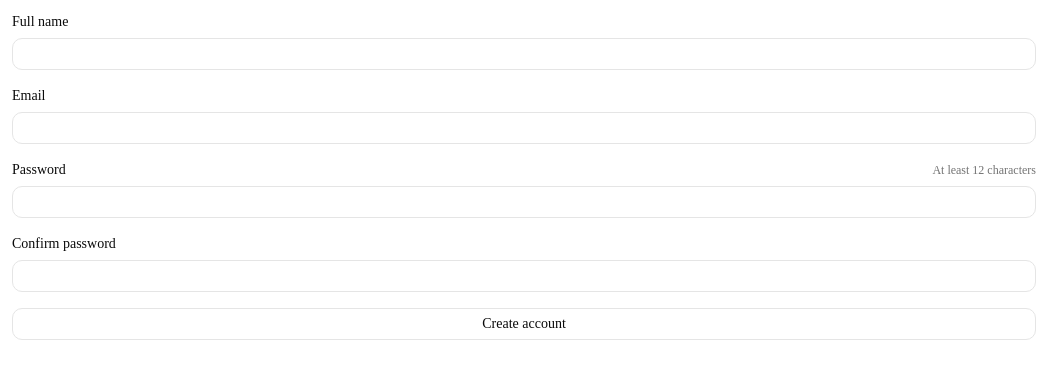
Test: SignupForm › shows a loading state on the submit button while pending
Type "Ada Lovelace" into the field labelled "Full name".
click(524, 54); type("Ada Lovelace")  # box [12, 38, 1036, 70]
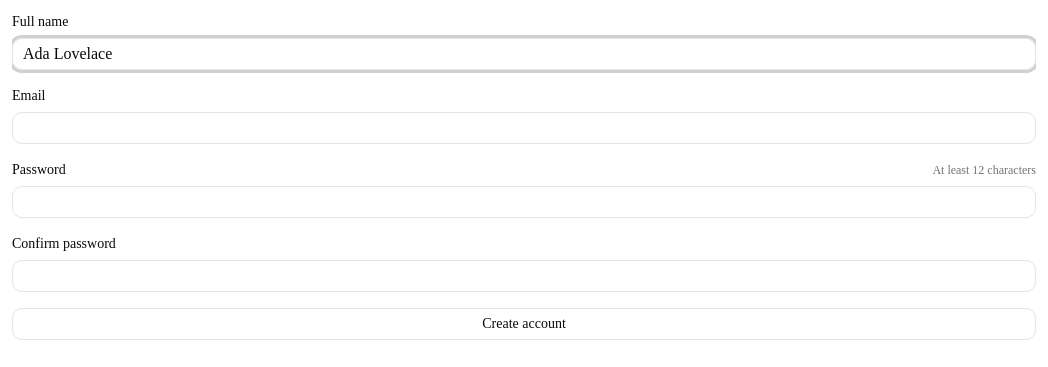
Type "ada@example.com" into the field labelled "Email".
click(524, 128); type("ada@example.com")  # box [12, 112, 1036, 144]
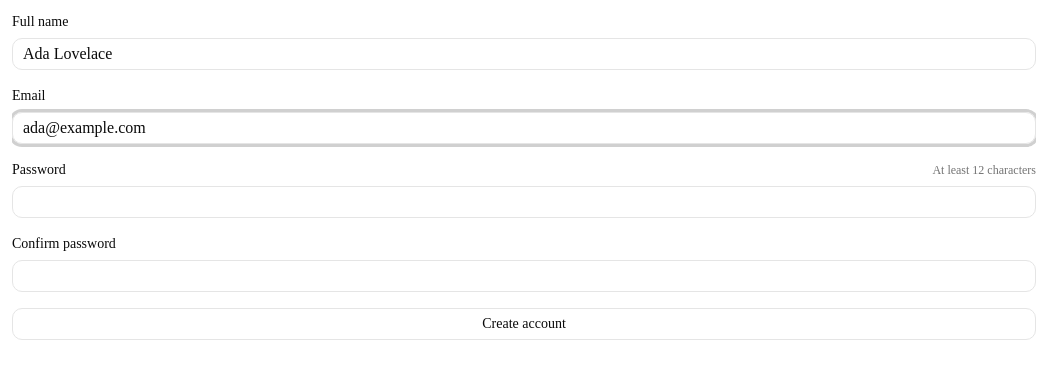
Type "hunter2hunter2" into the password field labelled "Password".
click(524, 202); type("hunter2hunter2")  # box [12, 186, 1036, 218]
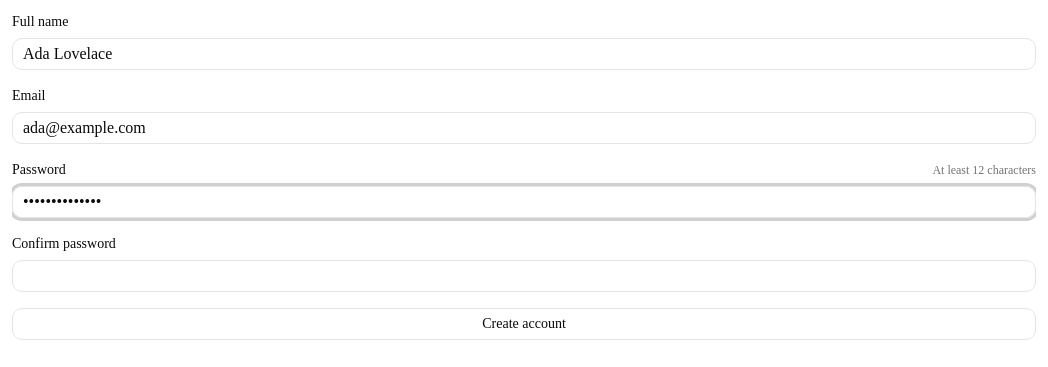
Type "hunter2hunter2" into the password field labelled "Confirm password".
click(524, 276); type("hunter2hunter2")  # box [12, 260, 1036, 292]
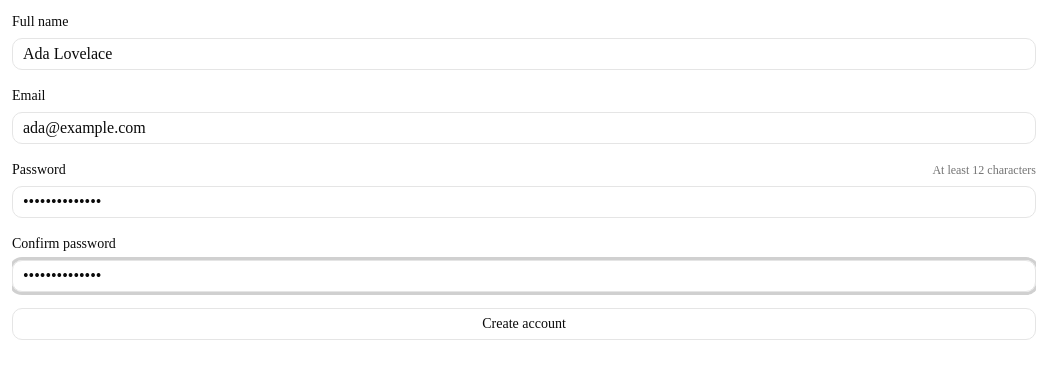
Click the button "Create account".
click(524, 324)  # box [12, 308, 1036, 340]
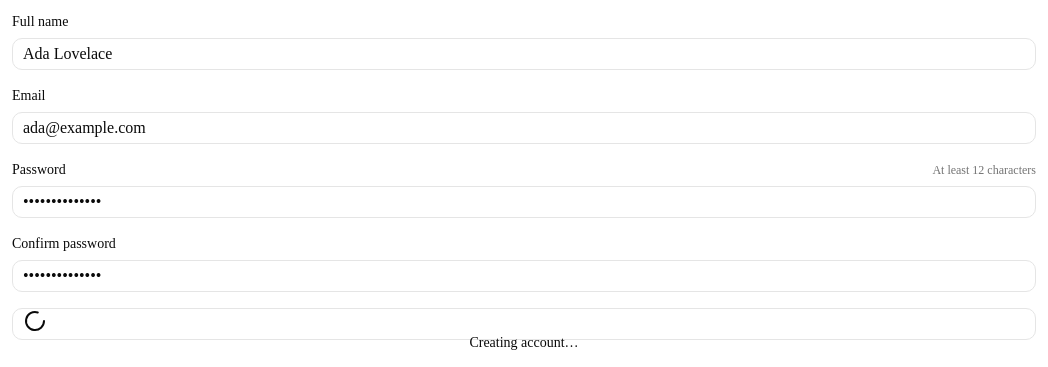
Result: the button "Creating account…" is disabled at [12, 308, 1036, 340]
